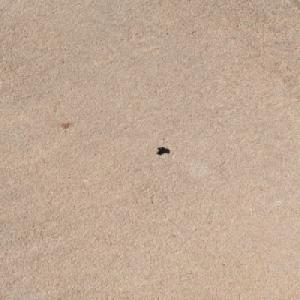BoltWasher: (155, 146, 167, 154)
